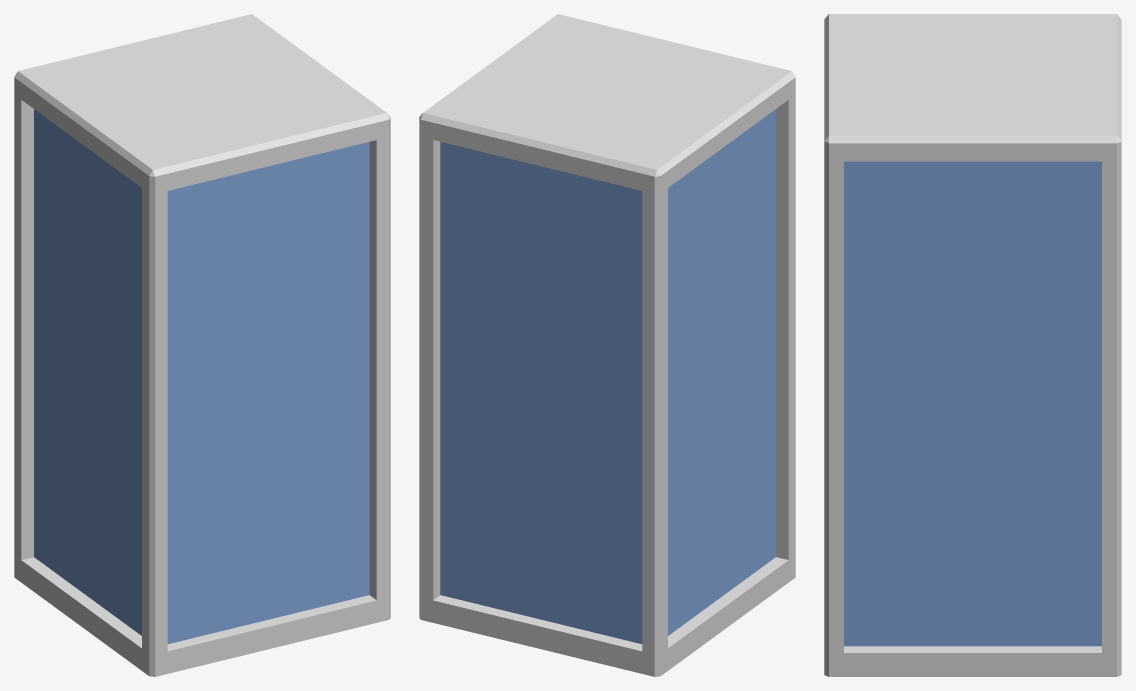
Rendered from regal_vitrine_var1.fbx.
The picture shows the model from 3 angles, left to right: view 1: azimuth 30°, elevation 25°; view 2: azimuth 150°, elevation 25°; view 3: azimuth 270°, elevation 25°; orthographic projection. The views are drawn at different scales.
Visible parts, largest first — view 1: Regal cube.001; view 2: Regal cube.001; view 3: Regal cube.001.
Boxes of the visible parts, left/top/right/bottom form: Regal cube.001: left=14, top=14, right=390, bottom=676; Regal cube.001: left=419, top=14, right=795, bottom=676; Regal cube.001: left=824, top=14, right=1121, bottom=676.
Size of the model in its own units: 75 by 150 by 75.
